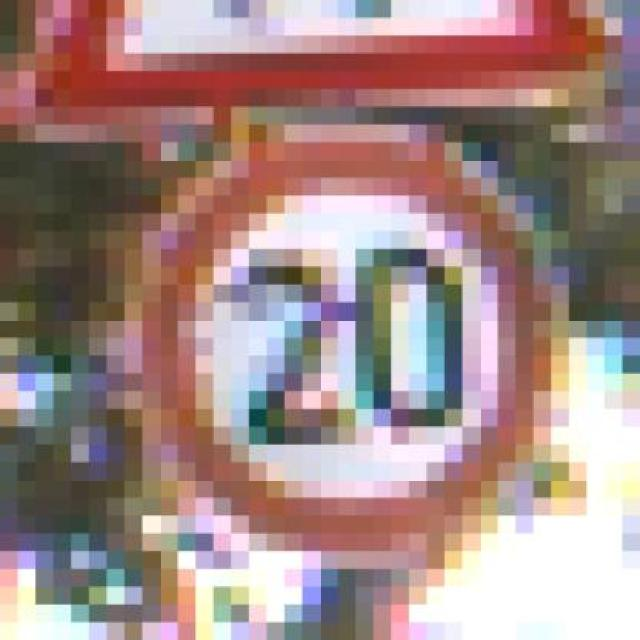Speed Limit 20 KMPh: (36, 124, 604, 587)
